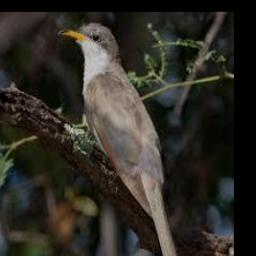Cuckoo: (58, 23, 189, 256)
